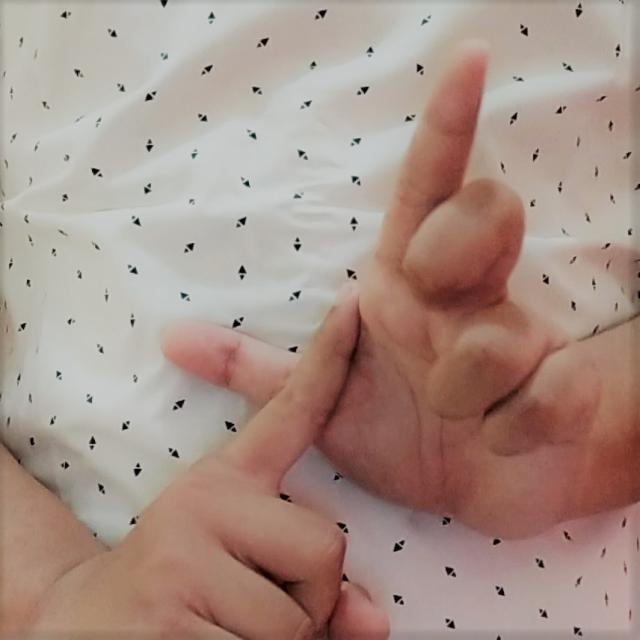Y: (120, 30, 606, 640)
